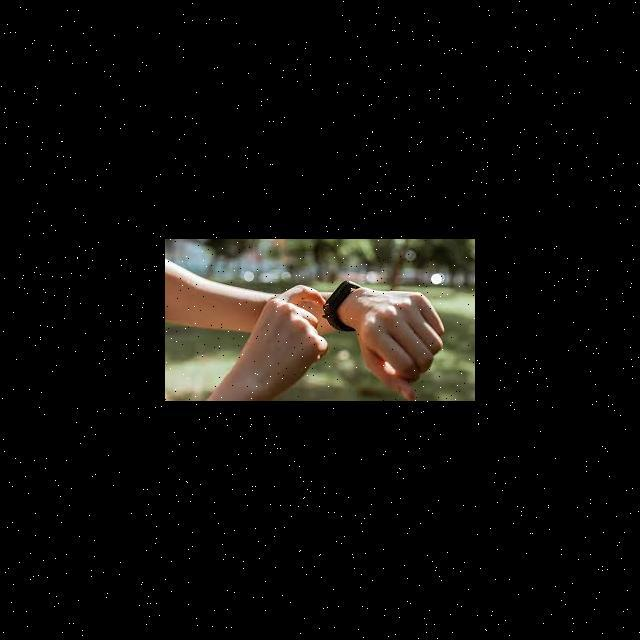watch: (324, 260, 381, 344)
